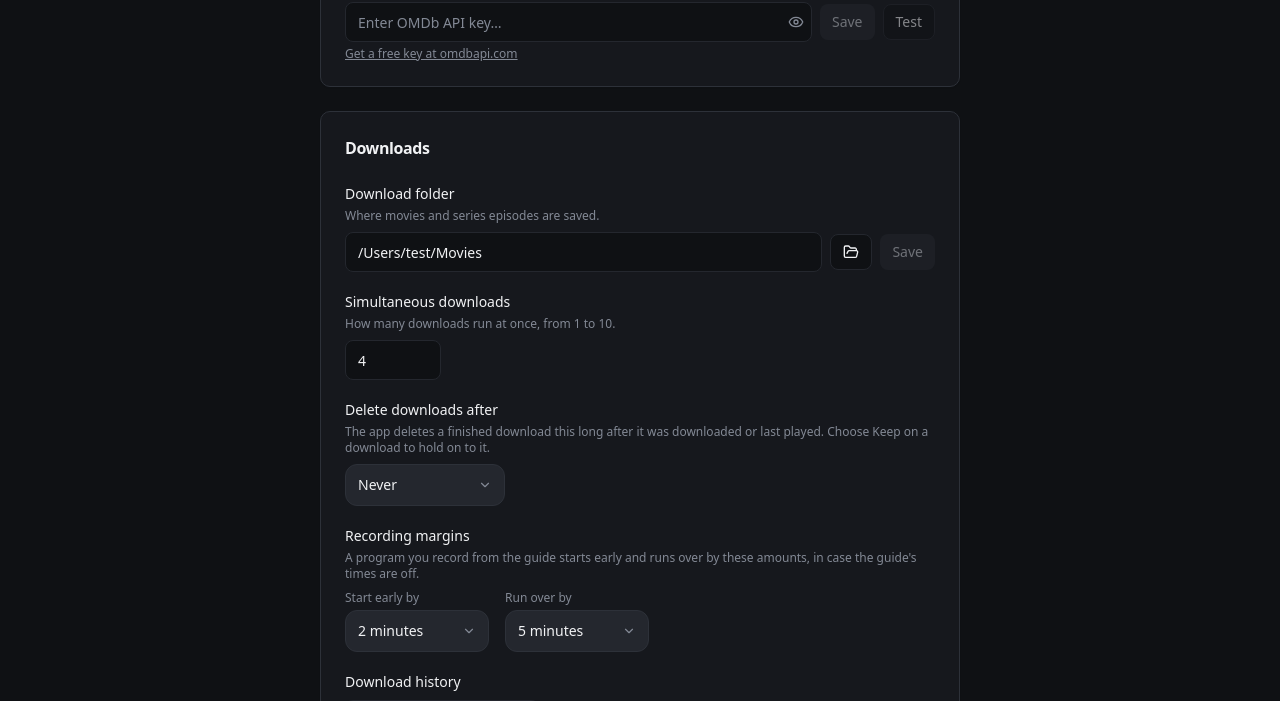
Test: Settings download options › keeps the page working when saving the download count or retention fails
(page scrolled)
Replace the text in the number field labelled "Simultaneous downloads" with "6" at (393, 360), box [345,340,441,380]
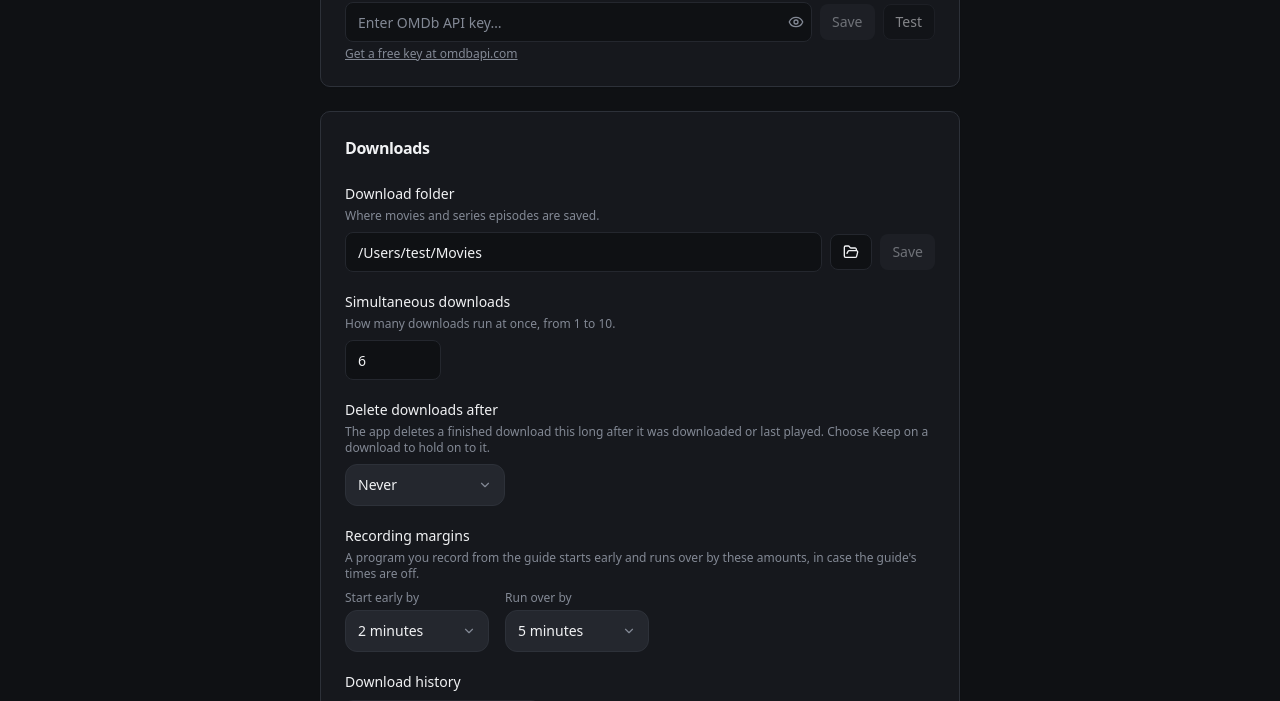
Click the button with aria-label "Delete downloads after" at (425, 485), box [345,464,505,506]
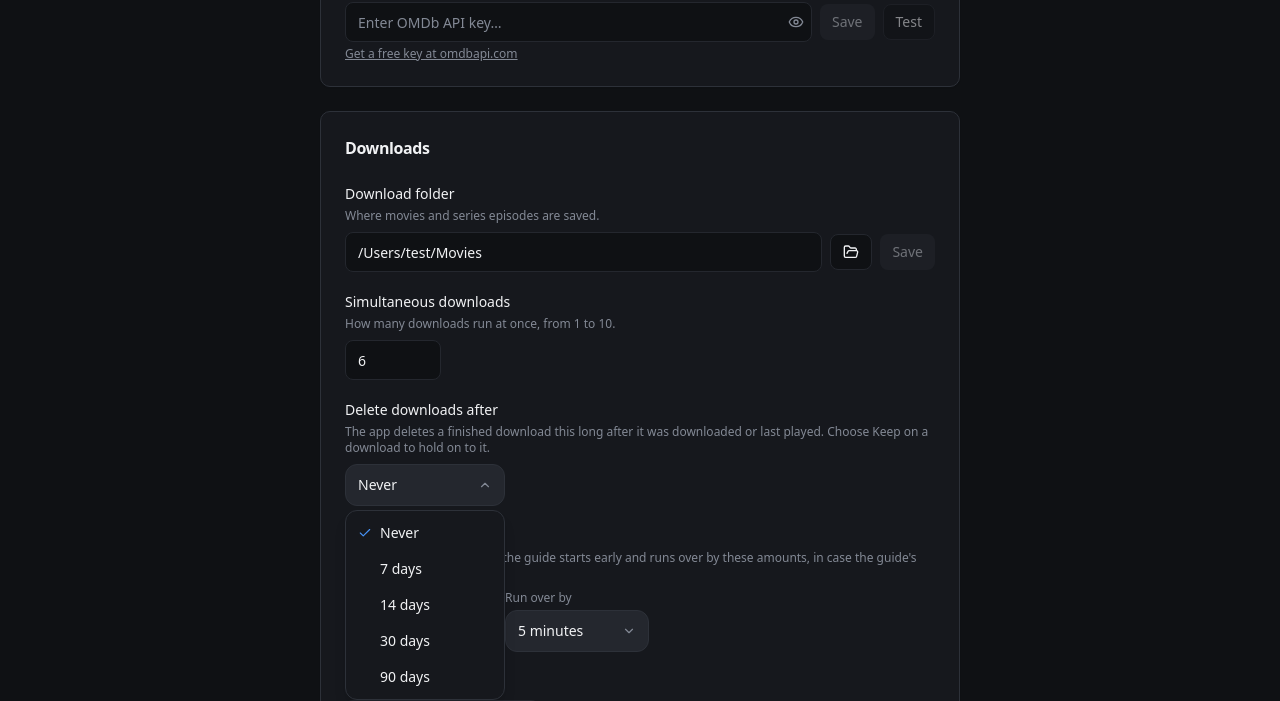
Click the option "7 days" at (401, 568), box [380,559,422,578]
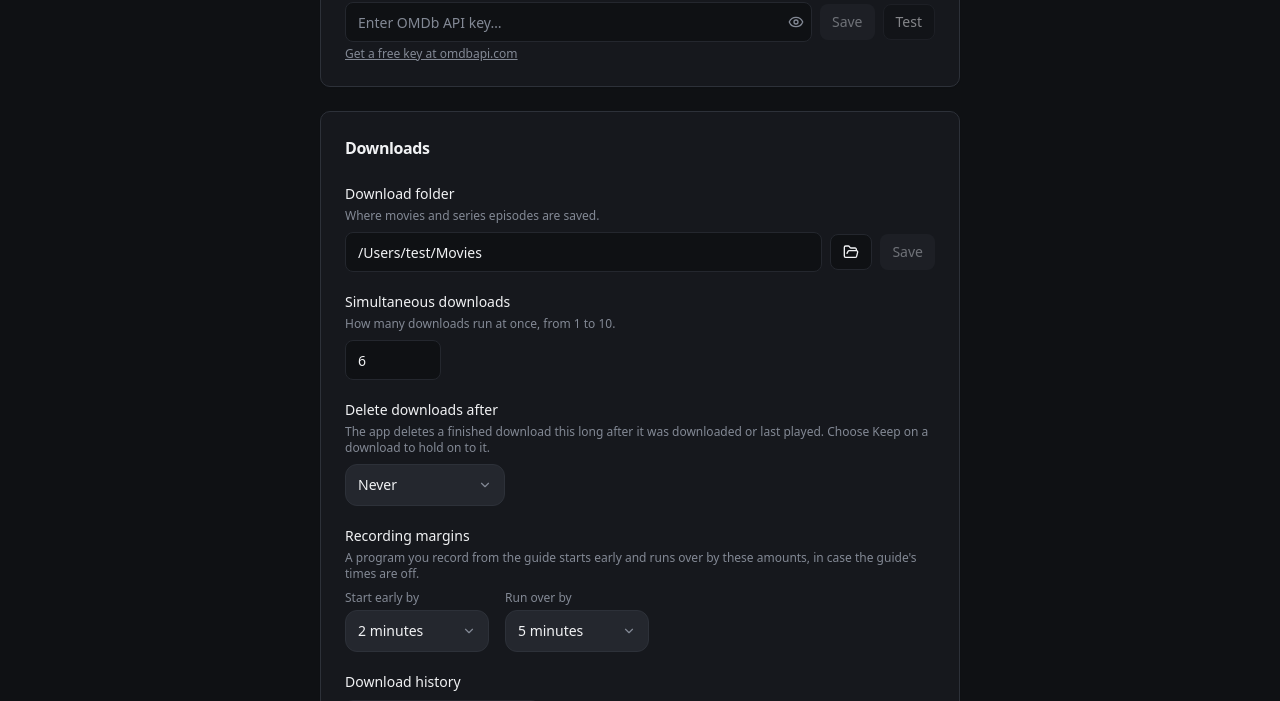
Click the button with aria-label "Delete downloads after" at (425, 485), box [345,464,505,506]
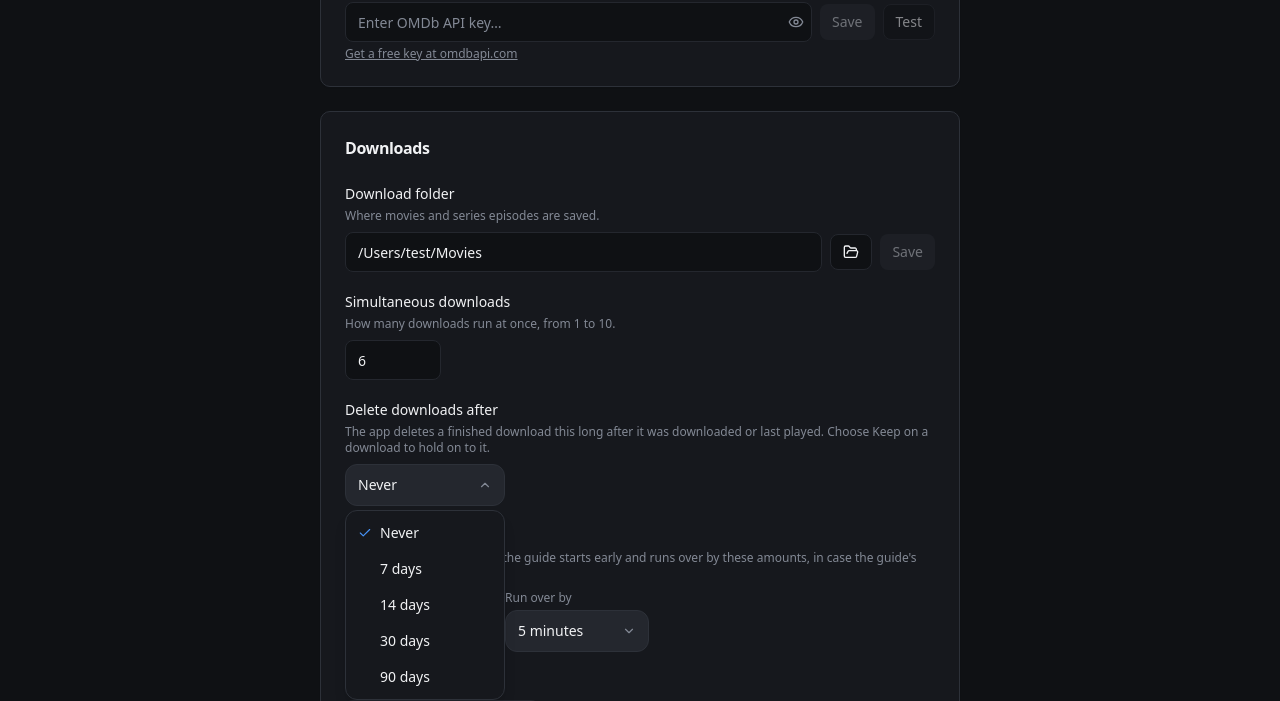
Click the option "14 days" at (405, 604), box [380,595,430,614]
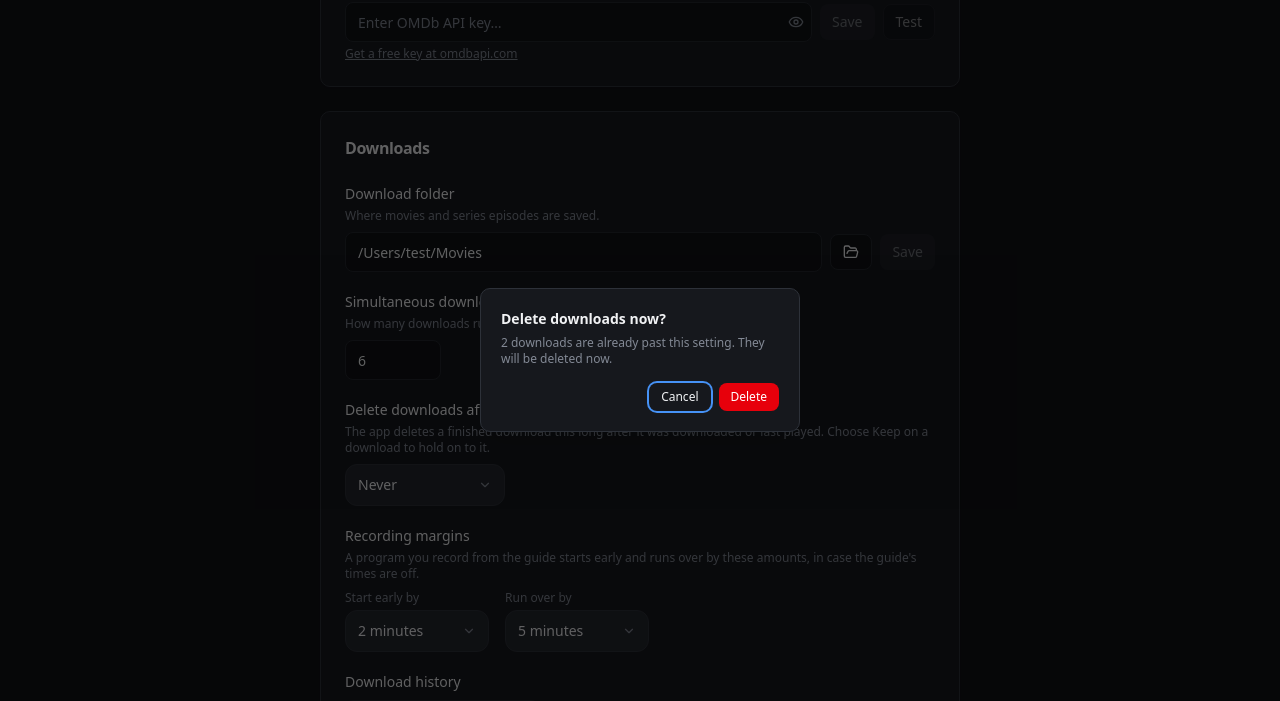
Click the button "Delete" at (749, 397), box [718,383,779,411]
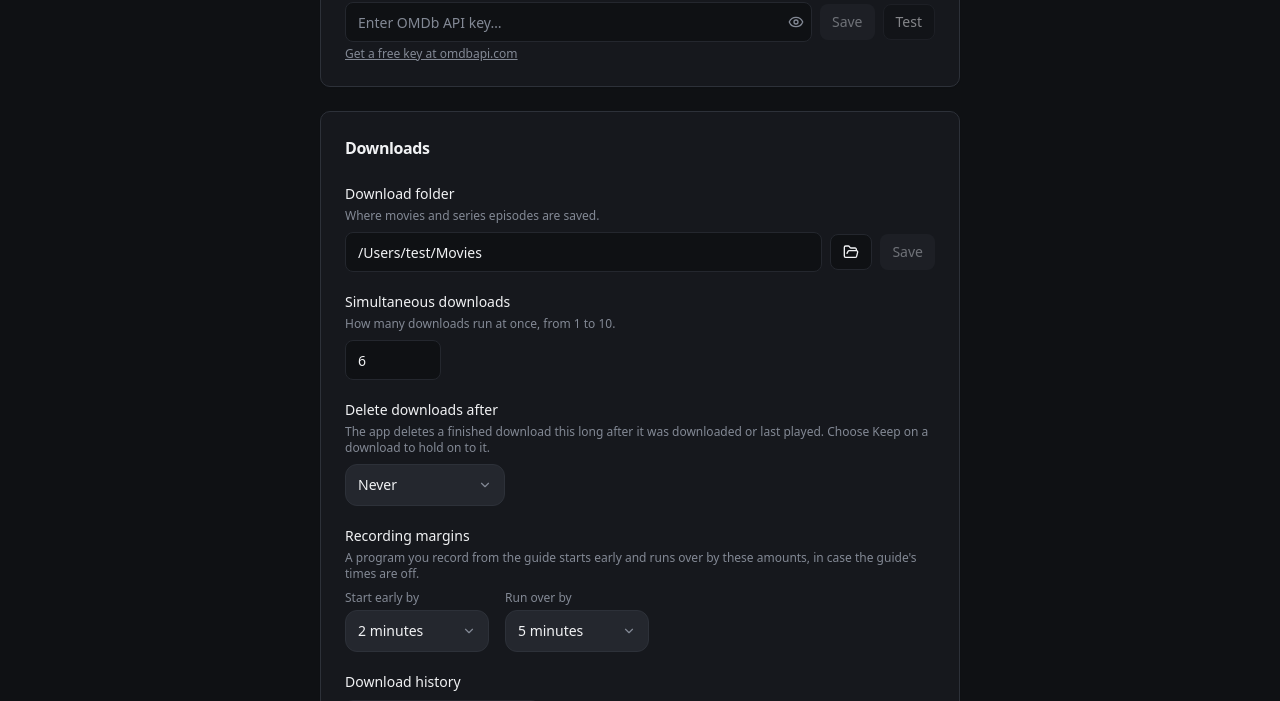
Now the dialog is gone
